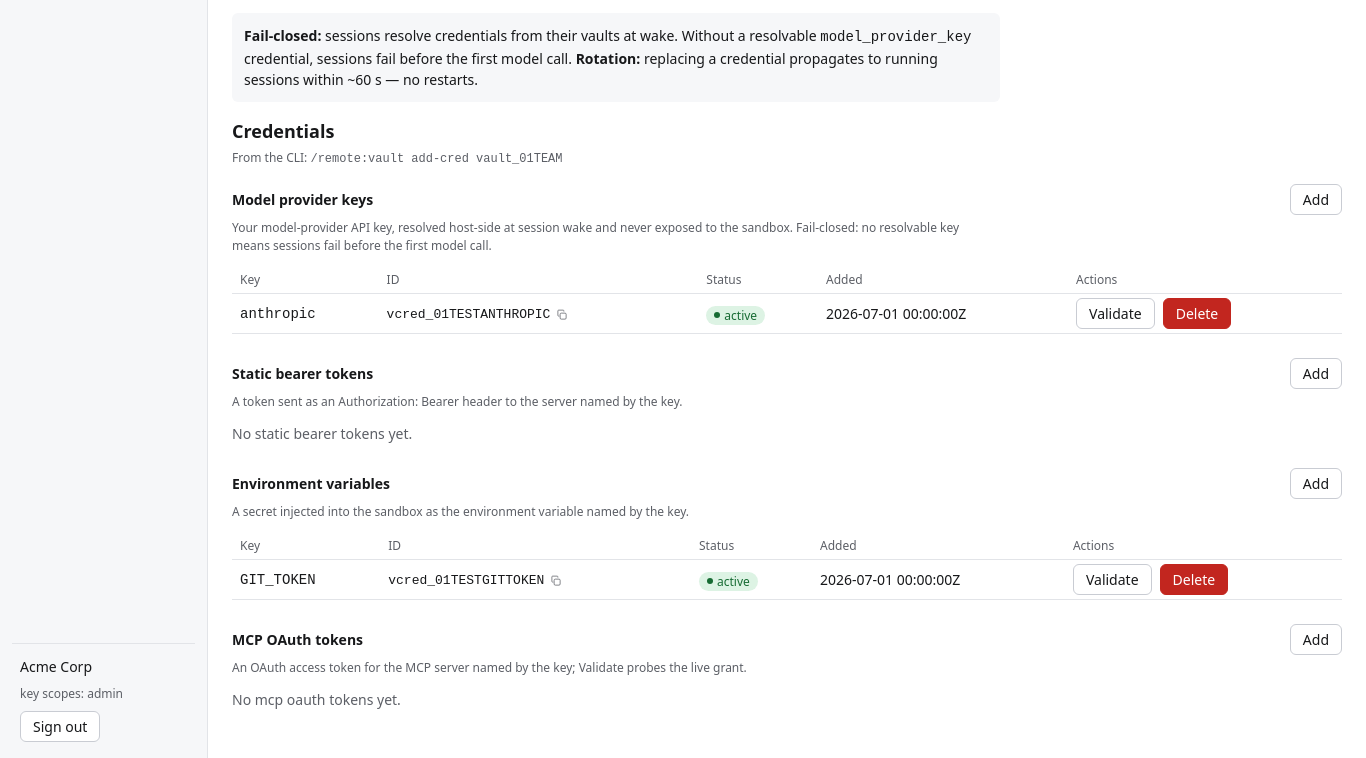
Scenario: vault detail (§9.3, W11) › deletes a credential behind a typed confirmation naming the purge (DP-7)
(page scrolled)
Click the button "Delete" in the row of "GIT_TOKEN" at (1194, 580), box [1160, 564, 1228, 595]
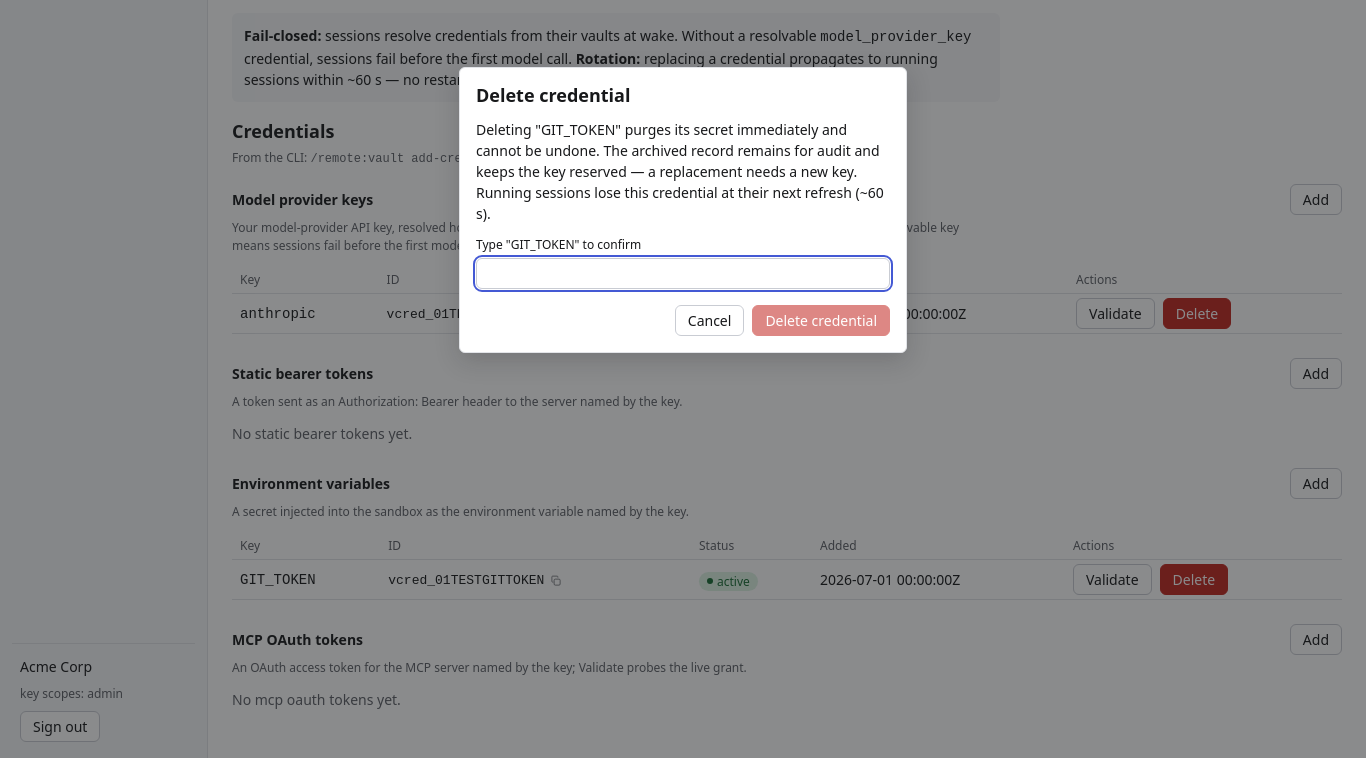
Expected: the dialog "Delete credential" shows "purges its secret immediately", [476, 120, 884, 223]
Expected: the button "Delete credential" is disabled, [752, 305, 890, 336]
Type "GIT_TOKEN" into the field labelled "Type \"GIT_TOKEN\" to confirm" at (683, 274), box [476, 258, 890, 289]
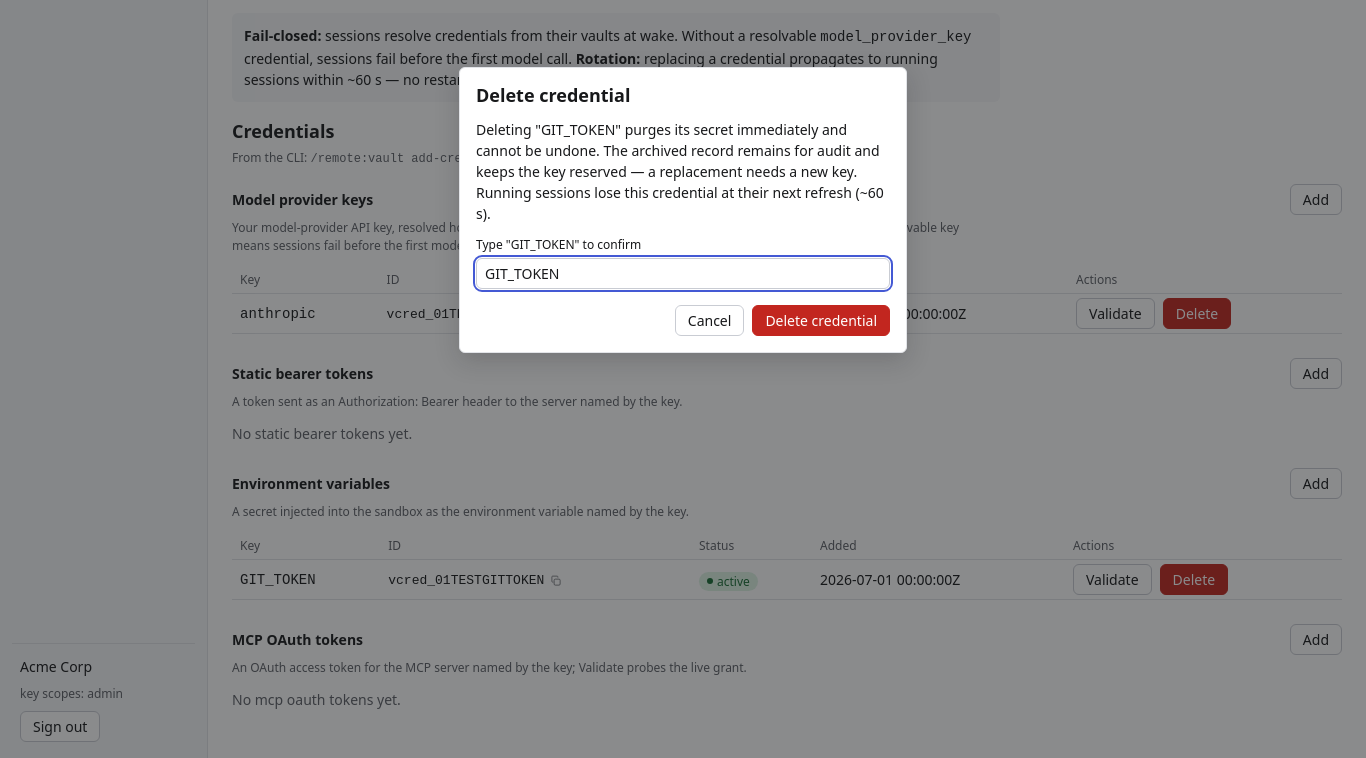
Click the button "Delete credential" at (821, 321), box [752, 305, 890, 336]
(page scrolled)
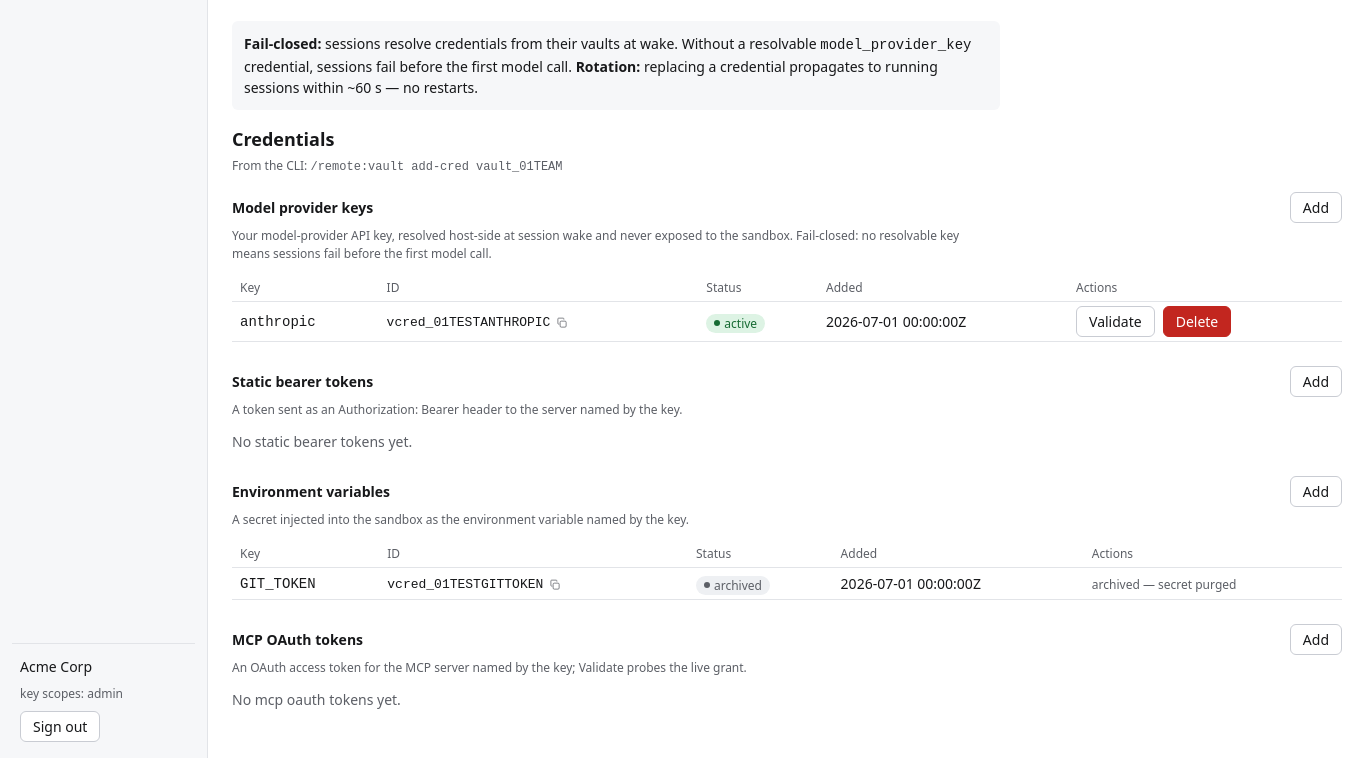
Expected: the text "archived — secret purged" is shown, [1092, 576, 1236, 593]
